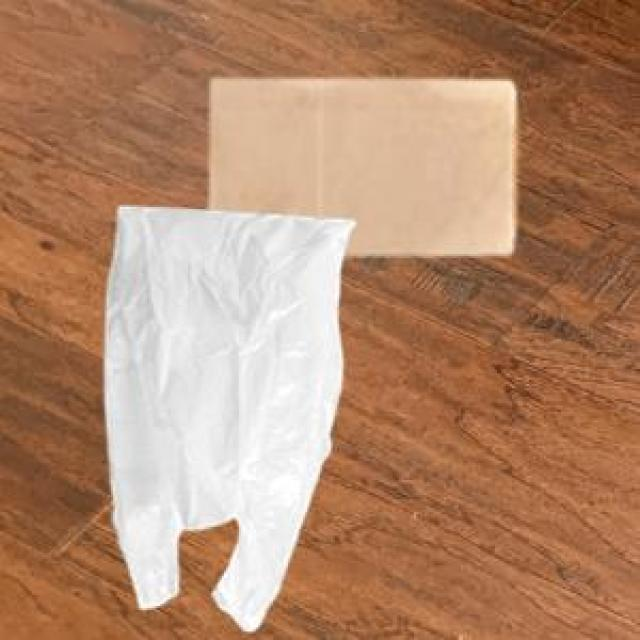paper: (206, 75, 512, 250)
